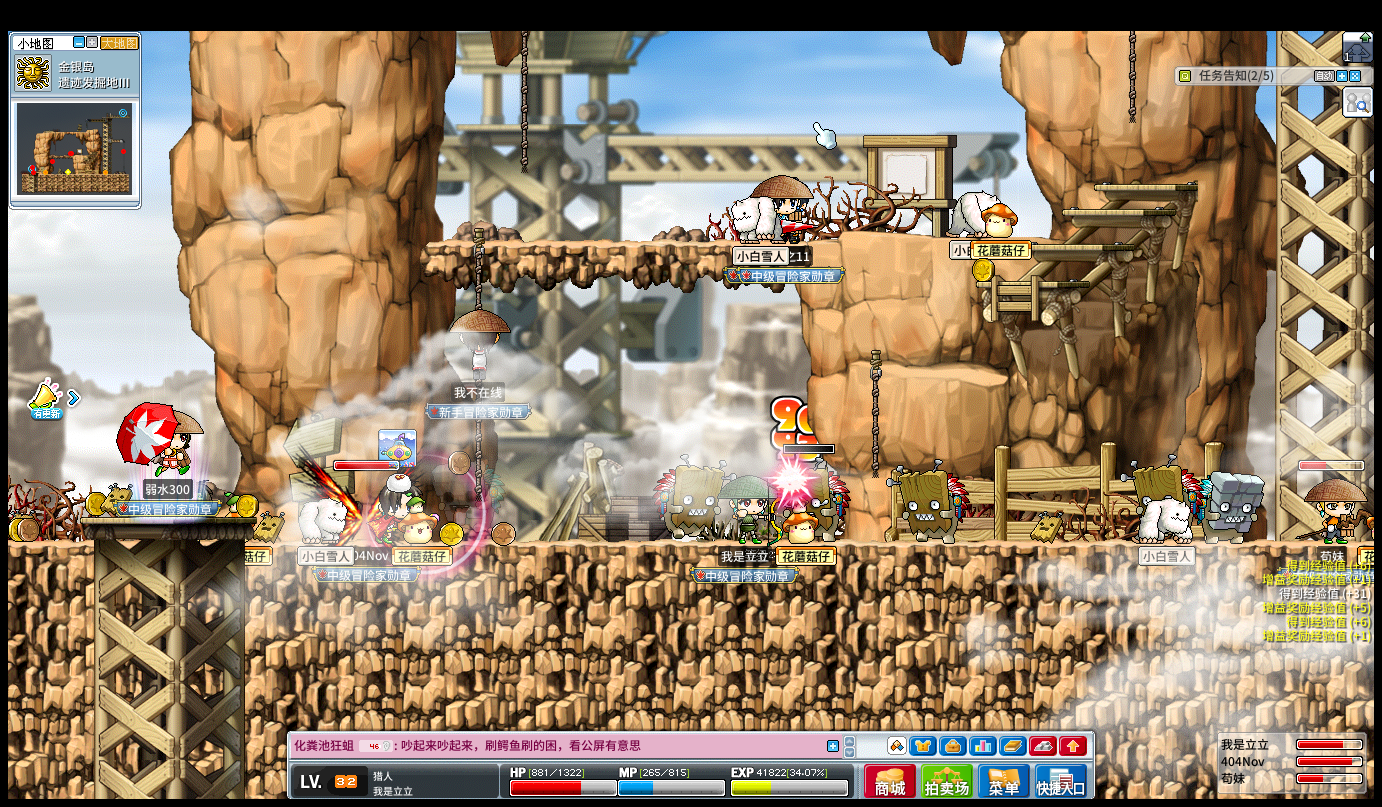floor: (421, 238, 805, 249), (900, 364, 1009, 383), (80, 516, 257, 526), (913, 233, 1057, 241), (8, 538, 93, 550), (969, 280, 1087, 288), (1057, 207, 1169, 214), (1017, 243, 1128, 250), (1093, 184, 1197, 191)
monster: (653, 457, 727, 542), (890, 463, 967, 543), (1128, 457, 1199, 538), (1200, 470, 1263, 544), (1129, 457, 1199, 503)
rope: (868, 350, 881, 481), (519, 29, 527, 174), (521, 28, 529, 169), (470, 228, 483, 311), (1125, 29, 1134, 121)
